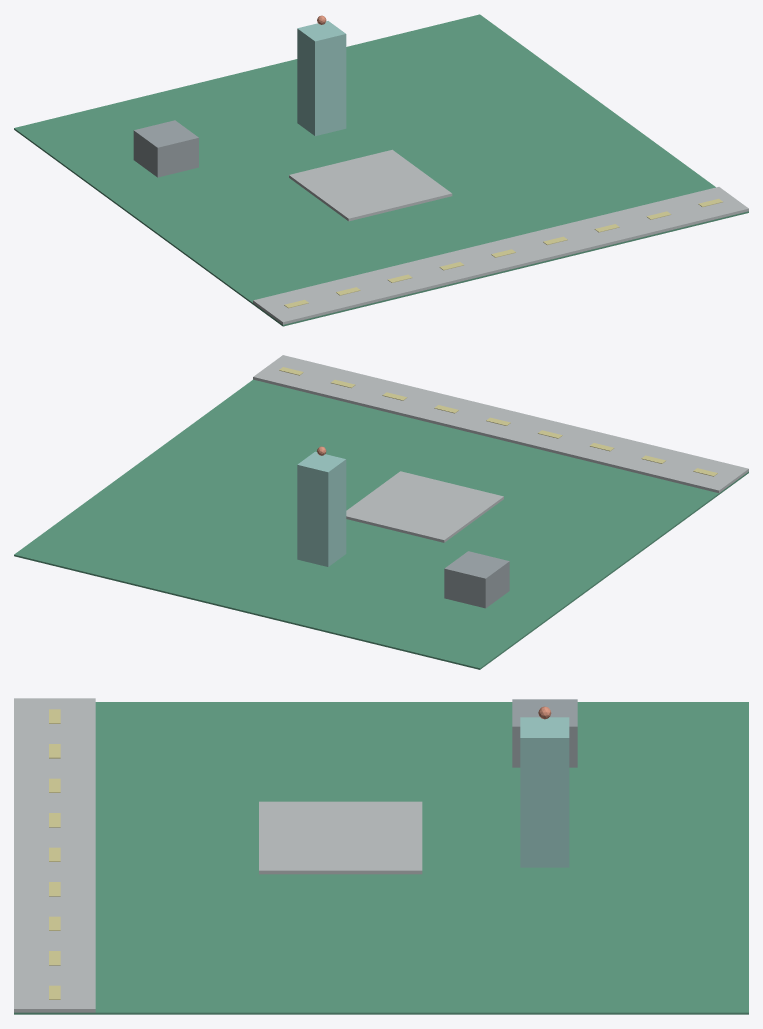
File: stage_03.glb
3 views of the same model, one above another, from view 1: azimuth 30°, elevation 25°; view 2: azimuth 150°, elevation 25°; view 3: azimuth 270°, elevation 25° (orthographic). The views are drawn at different scales.
Parts seen in each view (by area): view 1: geometry_0; view 2: geometry_0; view 3: geometry_0.
Part boxes in pixels (x1,y1,x2,y2): geometry_0: (14, 14, 748, 326); geometry_0: (14, 355, 748, 669); geometry_0: (14, 698, 748, 1014).
Size of the model in its own units: 9 by 2.06 by 9.
